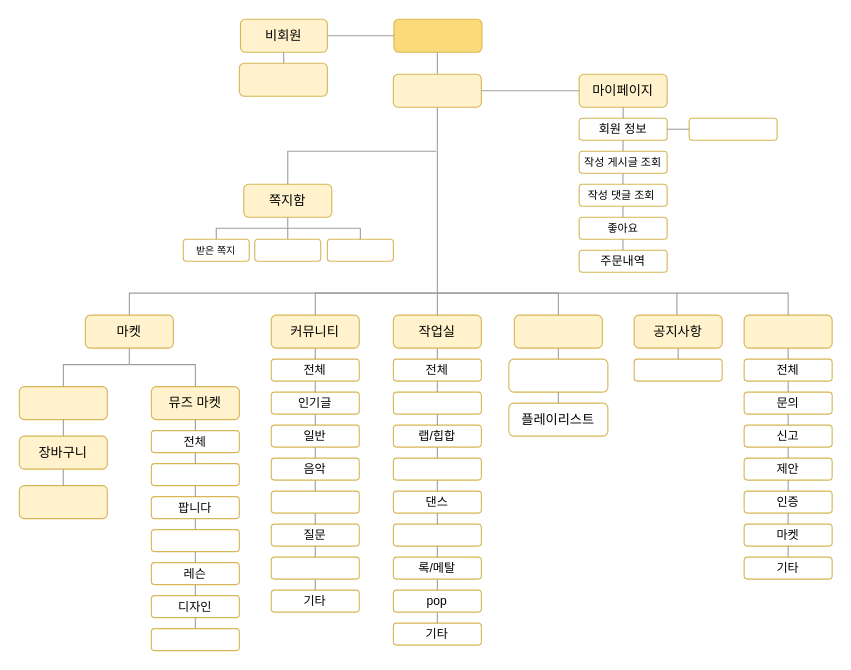
Image size: 851x670. Some labels were removed from this diagram. Each missing label, with the box of its shape:
R&B/Soul: (392, 457, 481, 480)
게시판: (633, 358, 722, 381)
공식 굿즈샵: (18, 386, 107, 420)
구매: (18, 485, 107, 519)
라이브러리: (513, 314, 602, 348)
로그인: (392, 73, 481, 107)
메인페이지: (393, 18, 482, 52)
발라드: (392, 391, 481, 414)
보관함: (326, 238, 393, 261)
보낸 쪽지: (254, 238, 321, 261)
삽니다: (150, 463, 239, 486)
운영참여: (743, 314, 832, 348)
인디: (392, 523, 481, 546)
인증/후기: (270, 490, 359, 513)
장비: (150, 628, 239, 651)
장소: (150, 529, 239, 552)
정보 수정/탈퇴: (688, 117, 777, 140)
좋아요 목록: (508, 358, 608, 392)
홍보: (270, 556, 359, 579)
회원가입: (238, 62, 327, 96)
